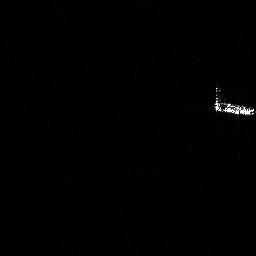ship: (211, 83, 256, 118)
